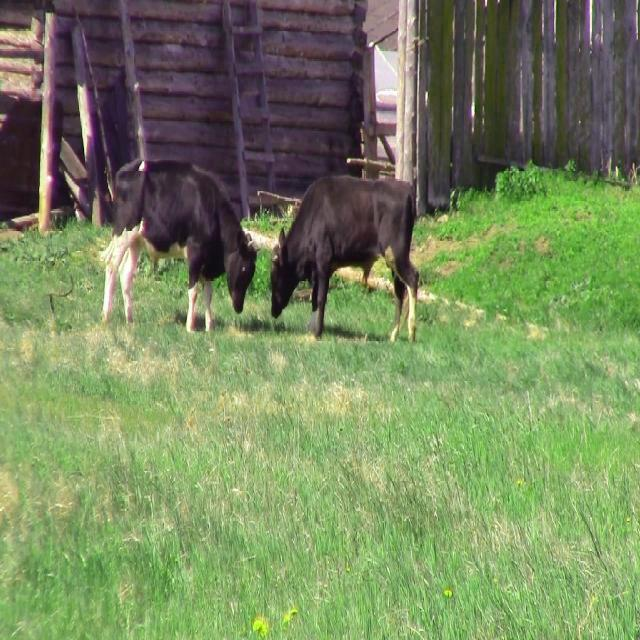cow: (102, 160, 256, 331), (271, 176, 419, 341)
